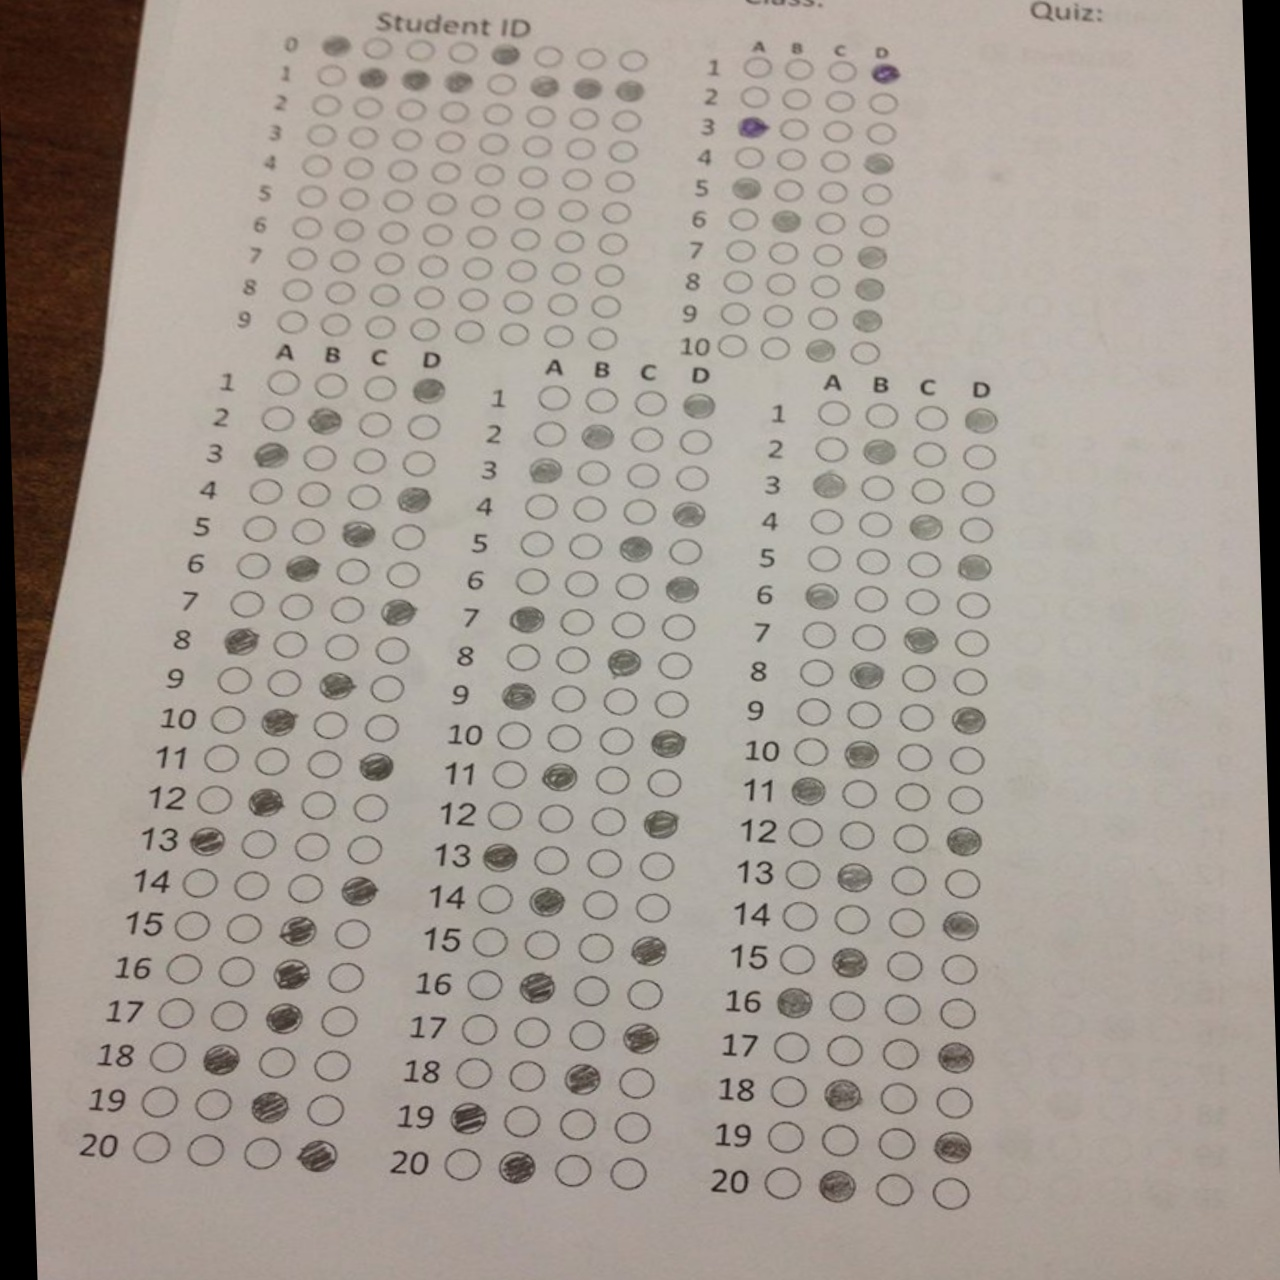not-c: (760, 1163, 805, 1204), (501, 1099, 545, 1138), (207, 998, 251, 1036), (326, 958, 367, 998), (306, 1090, 349, 1128), (136, 1083, 181, 1119), (944, 741, 988, 777), (768, 1029, 812, 1065), (234, 826, 280, 862), (268, 625, 312, 661), (624, 974, 667, 1010), (606, 1153, 649, 1190), (510, 1016, 554, 1051), (762, 1118, 806, 1153), (554, 1151, 595, 1189), (316, 1005, 360, 1040), (558, 1108, 601, 1143), (777, 942, 821, 978), (297, 787, 341, 821), (332, 918, 376, 952), (169, 908, 215, 941), (942, 784, 988, 817), (821, 1121, 860, 1158), (933, 1173, 973, 1211), (147, 1039, 188, 1075), (937, 995, 978, 1032), (222, 912, 265, 946), (248, 744, 293, 777), (523, 930, 567, 962), (188, 1130, 226, 1167), (181, 865, 220, 901), (883, 946, 922, 982), (132, 1126, 173, 1162), (256, 1046, 299, 1078), (566, 1017, 610, 1050), (574, 933, 619, 965), (949, 588, 998, 618), (362, 708, 401, 744), (156, 996, 195, 1033), (940, 951, 979, 987), (878, 1125, 917, 1162), (645, 765, 685, 801), (903, 585, 942, 620), (888, 862, 928, 897), (874, 1172, 914, 1207), (343, 481, 384, 515), (275, 588, 316, 622), (342, 832, 383, 866), (580, 888, 621, 922), (595, 726, 638, 758), (883, 992, 925, 1024), (301, 748, 345, 779), (328, 592, 367, 627), (456, 1056, 495, 1091), (443, 1146, 482, 1182), (243, 1133, 282, 1167), (903, 547, 942, 581), (951, 627, 990, 661), (949, 665, 989, 699), (311, 709, 352, 742), (293, 830, 334, 863), (489, 758, 530, 791), (467, 926, 508, 959), (833, 904, 874, 937), (765, 1076, 806, 1109), (213, 666, 256, 697), (849, 624, 891, 655), (784, 816, 826, 847), (781, 860, 824, 891), (313, 1048, 350, 1083), (638, 849, 675, 884), (619, 1064, 656, 1099), (165, 949, 204, 983), (195, 1087, 233, 1121), (573, 973, 612, 1007), (613, 1111, 652, 1145), (352, 790, 392, 823), (467, 969, 506, 1002), (894, 779, 934, 812), (880, 1081, 920, 1114), (855, 509, 896, 540), (790, 736, 831, 768), (935, 1087, 976, 1118), (535, 381, 577, 411), (828, 1033, 864, 1068), (285, 872, 322, 906), (678, 425, 715, 459), (584, 845, 621, 879), (511, 1060, 549, 1094), (796, 694, 833, 728), (288, 515, 327, 547), (230, 869, 268, 901), (485, 798, 524, 831), (959, 515, 998, 547), (893, 741, 932, 774), (893, 822, 932, 855), (880, 1039, 919, 1071), (209, 703, 248, 735), (461, 1014, 501, 1046), (839, 778, 879, 810), (838, 821, 878, 852), (226, 588, 267, 619), (200, 743, 241, 774), (583, 383, 624, 414), (907, 475, 948, 505), (778, 901, 819, 932), (219, 954, 256, 988), (556, 644, 592, 678), (656, 648, 693, 682), (845, 697, 881, 731), (551, 682, 588, 715), (233, 550, 272, 581), (537, 803, 576, 835), (828, 990, 866, 1022), (400, 448, 440, 478), (890, 907, 930, 938), (493, 720, 535, 749), (959, 442, 1000, 471), (265, 367, 302, 399), (301, 443, 340, 474), (350, 445, 389, 476), (547, 723, 586, 754), (477, 884, 516, 914), (635, 893, 674, 924), (960, 477, 999, 508), (941, 869, 980, 899), (321, 632, 361, 661), (660, 614, 700, 644), (799, 621, 839, 651), (817, 400, 858, 428), (851, 547, 892, 576), (372, 673, 408, 704), (573, 495, 610, 526), (559, 605, 595, 636), (903, 661, 939, 693), (406, 411, 443, 442), (336, 556, 374, 586), (373, 636, 410, 667), (797, 658, 835, 688), (808, 508, 846, 537), (813, 434, 847, 467), (627, 461, 662, 492), (367, 280, 403, 311), (384, 558, 421, 588), (591, 806, 627, 837), (915, 403, 952, 434), (517, 530, 558, 557), (498, 287, 536, 316), (361, 311, 399, 340), (259, 403, 297, 433), (196, 787, 233, 816), (858, 474, 896, 503), (278, 277, 316, 305), (633, 390, 672, 418), (629, 424, 666, 454), (622, 497, 659, 526), (611, 608, 647, 638), (859, 179, 896, 209), (899, 703, 935, 733), (302, 122, 340, 150), (563, 568, 600, 597), (673, 465, 712, 492), (772, 115, 811, 142), (338, 183, 372, 213), (669, 537, 703, 567), (655, 689, 689, 720), (535, 846, 568, 877), (864, 400, 898, 430), (418, 219, 454, 248), (363, 374, 399, 403), (297, 478, 332, 508), (267, 669, 302, 699), (577, 459, 612, 489), (524, 493, 559, 523), (515, 567, 550, 597), (384, 156, 421, 184), (243, 513, 279, 542), (567, 532, 604, 560), (505, 644, 542, 672), (595, 767, 632, 795), (813, 209, 850, 237), (388, 524, 425, 551), (715, 332, 753, 359), (770, 178, 809, 204), (808, 243, 846, 268), (411, 282, 445, 312), (614, 572, 648, 601), (740, 52, 774, 81), (822, 117, 856, 147), (349, 93, 384, 121), (472, 159, 508, 188), (424, 189, 459, 217), (450, 316, 485, 345), (914, 440, 949, 468), (591, 261, 627, 288), (545, 291, 581, 318), (408, 316, 444, 343), (586, 324, 622, 350), (355, 411, 392, 438), (855, 585, 891, 612), (394, 98, 431, 124), (532, 420, 570, 445), (377, 217, 410, 246), (602, 166, 636, 195), (554, 229, 588, 257), (331, 246, 365, 274), (866, 89, 900, 117), (865, 121, 899, 149), (772, 145, 806, 173), (756, 334, 790, 362), (847, 338, 881, 366), (497, 319, 529, 348), (435, 129, 469, 156), (300, 151, 334, 178), (342, 154, 376, 181), (504, 256, 538, 282), (275, 309, 309, 336), (542, 321, 576, 348), (312, 372, 346, 399), (248, 478, 282, 505), (806, 545, 840, 572), (719, 268, 754, 294), (294, 182, 326, 210), (381, 188, 413, 216), (319, 309, 350, 338), (565, 134, 598, 161), (332, 216, 365, 243), (457, 285, 490, 312), (430, 159, 464, 185), (513, 195, 547, 220), (556, 197, 590, 223), (325, 278, 359, 304), (602, 687, 636, 713), (815, 181, 849, 206), (806, 274, 840, 300), (858, 212, 890, 239), (762, 302, 794, 329), (617, 47, 649, 73), (311, 91, 343, 117), (390, 127, 423, 152), (597, 231, 629, 257), (373, 250, 406, 275), (765, 271, 798, 297), (719, 302, 751, 328), (440, 101, 474, 125), (346, 125, 380, 150), (726, 207, 760, 232), (559, 168, 594, 191), (818, 150, 853, 173), (361, 35, 393, 61), (532, 42, 564, 68), (574, 45, 606, 70), (610, 108, 642, 132), (468, 192, 501, 217), (416, 253, 449, 278), (550, 260, 583, 285), (724, 239, 757, 264), (568, 107, 602, 130), (520, 134, 554, 157), (828, 61, 862, 84), (736, 86, 770, 109), (768, 241, 802, 265), (808, 307, 842, 331), (608, 139, 638, 166), (467, 223, 497, 248), (826, 88, 857, 114), (404, 38, 436, 62), (315, 62, 347, 87), (486, 72, 518, 96), (483, 101, 515, 125), (510, 226, 542, 251), (459, 257, 491, 281), (600, 200, 633, 224), (783, 86, 811, 113), (590, 294, 624, 316), (448, 39, 478, 63), (292, 215, 324, 238), (784, 57, 816, 81), (516, 165, 549, 188), (733, 145, 765, 168), (478, 129, 508, 154), (286, 248, 316, 272), (526, 104, 557, 127)
taken-c: (495, 1148, 540, 1187), (297, 1137, 340, 1175), (445, 1099, 489, 1136), (829, 944, 869, 980), (263, 1001, 304, 1036), (200, 1043, 241, 1078), (517, 969, 558, 1005), (628, 933, 669, 968), (937, 1039, 978, 1074), (932, 1130, 973, 1165), (377, 595, 420, 629), (640, 806, 682, 840), (563, 1061, 602, 1096), (818, 1169, 858, 1204), (220, 625, 261, 659), (245, 785, 286, 819), (250, 1089, 288, 1124), (823, 1078, 862, 1114), (188, 825, 227, 859), (338, 874, 377, 908), (271, 956, 311, 990), (481, 840, 520, 874), (258, 706, 299, 738), (846, 659, 887, 692), (278, 914, 316, 948), (355, 751, 396, 783), (526, 885, 567, 917), (663, 572, 702, 605), (941, 910, 980, 942), (776, 986, 815, 1019), (835, 862, 874, 893), (622, 1021, 660, 1054), (789, 774, 826, 806), (651, 728, 689, 760), (499, 679, 538, 710), (900, 624, 939, 655), (948, 704, 987, 736), (338, 518, 377, 549), (393, 483, 433, 513), (316, 670, 356, 701), (542, 762, 579, 794), (509, 605, 546, 636), (844, 738, 881, 770), (945, 825, 982, 857), (316, 30, 355, 61), (523, 454, 561, 484), (955, 550, 992, 581), (576, 420, 614, 449), (679, 390, 719, 418), (248, 440, 288, 468), (607, 646, 642, 678), (811, 470, 847, 501), (668, 498, 706, 527), (964, 406, 1001, 435), (282, 553, 321, 581), (304, 406, 342, 434), (862, 437, 897, 468), (525, 72, 561, 101), (410, 376, 447, 406), (804, 581, 840, 611), (615, 535, 654, 561), (568, 73, 605, 101), (731, 114, 769, 141), (851, 275, 888, 302), (353, 64, 389, 91), (908, 513, 942, 542), (440, 67, 472, 95), (855, 243, 888, 270), (803, 338, 837, 365), (489, 42, 522, 69), (399, 67, 433, 93), (869, 60, 903, 86), (850, 307, 884, 333), (862, 151, 896, 176), (730, 176, 764, 200), (771, 207, 801, 234), (611, 79, 644, 100)
